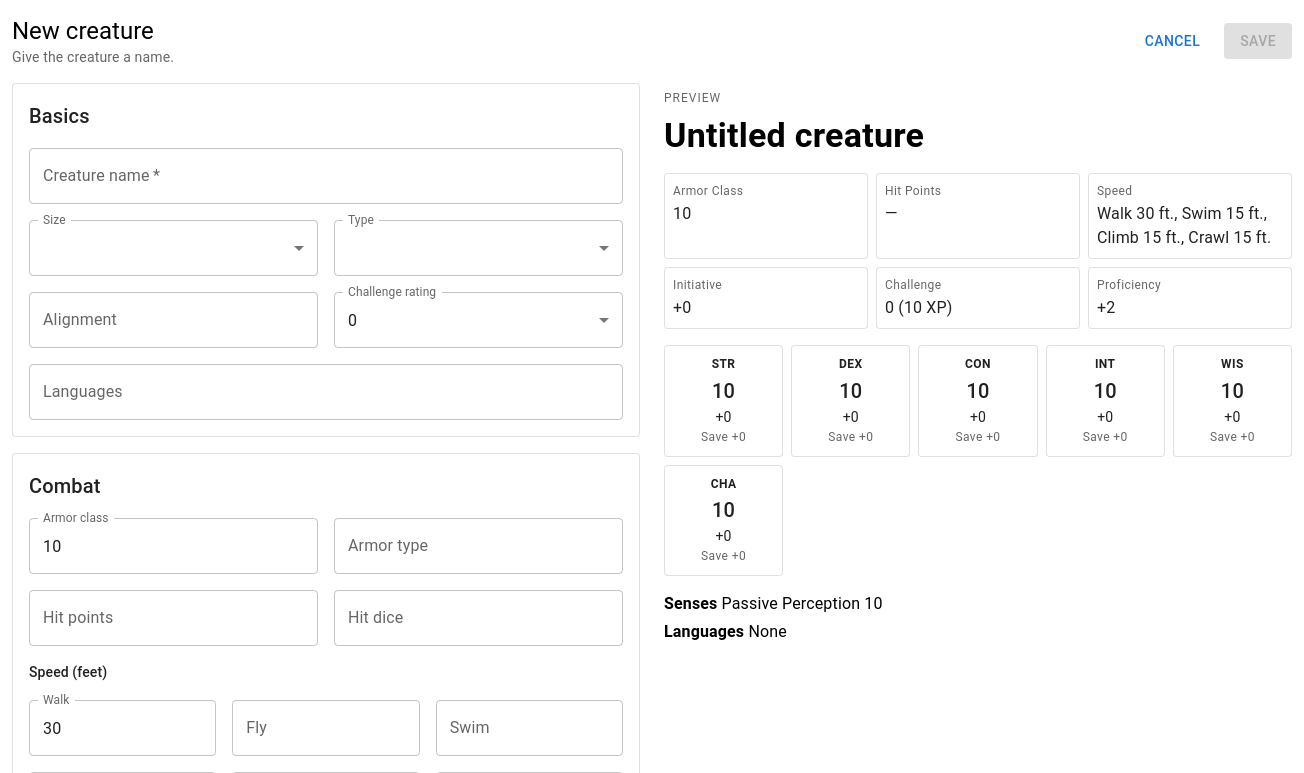
CreatureEditor › traits and actions › adds a trait and shows it in the preview
In the field labelled "Creature name *": (326, 176) [29,148,623,204], type "Gribble"
(page scrolled)
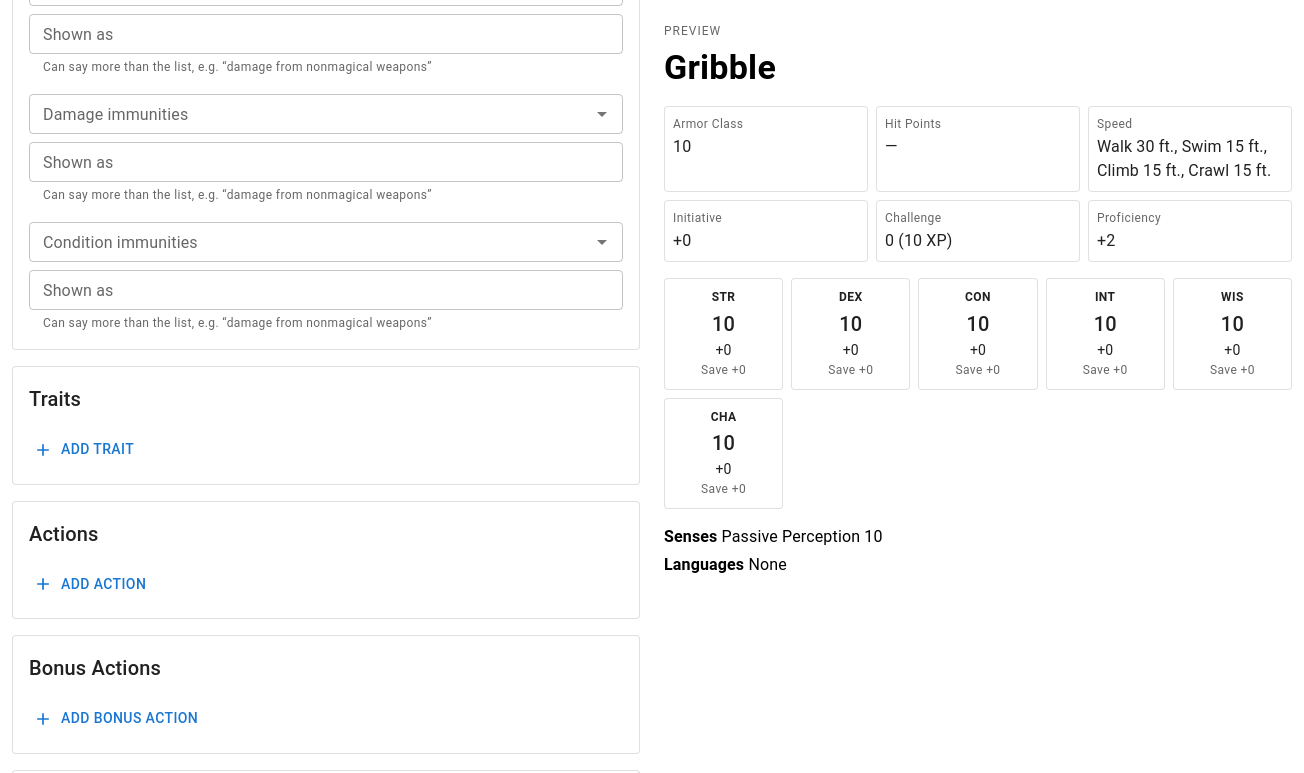
Click the button "Add trait": (86, 450) [29,432,142,468]
(page scrolled)
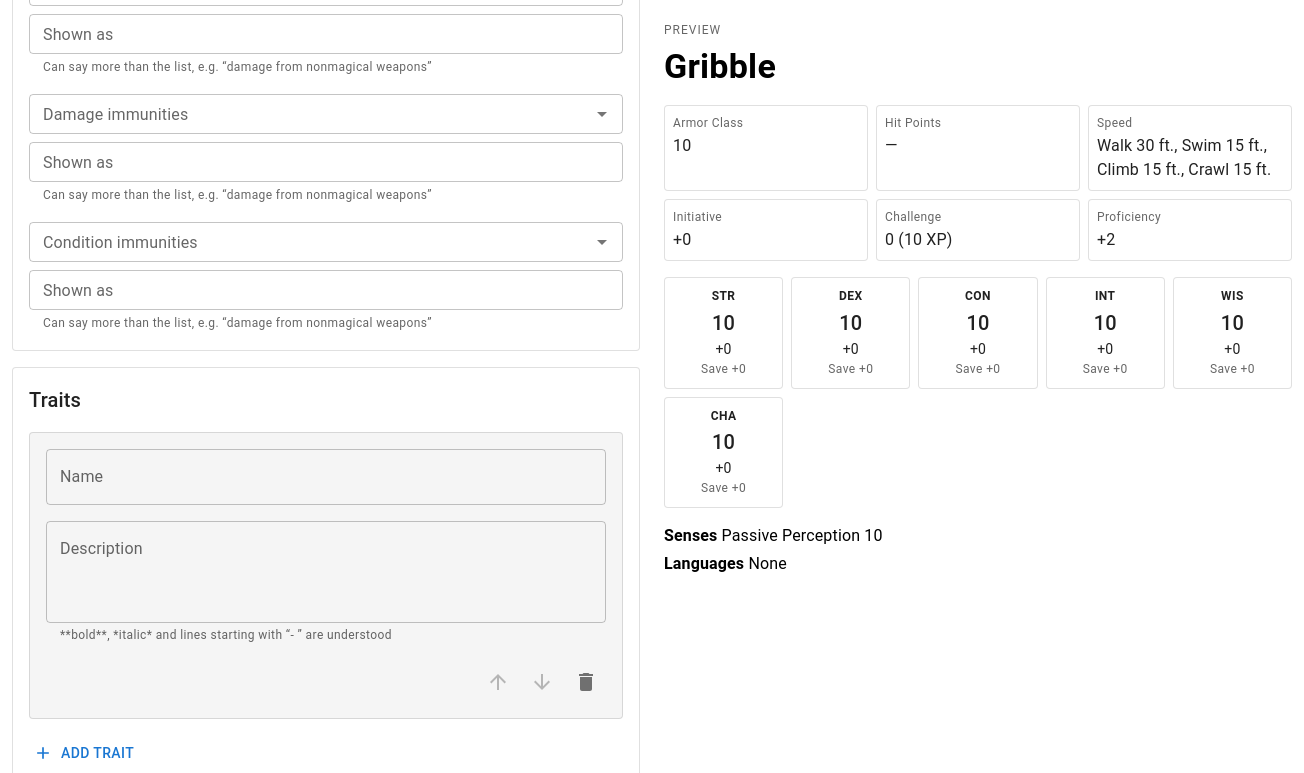
In the field labelled "Name": (326, 477) [46,449,606,505], type "Keen Smell"
(page scrolled)
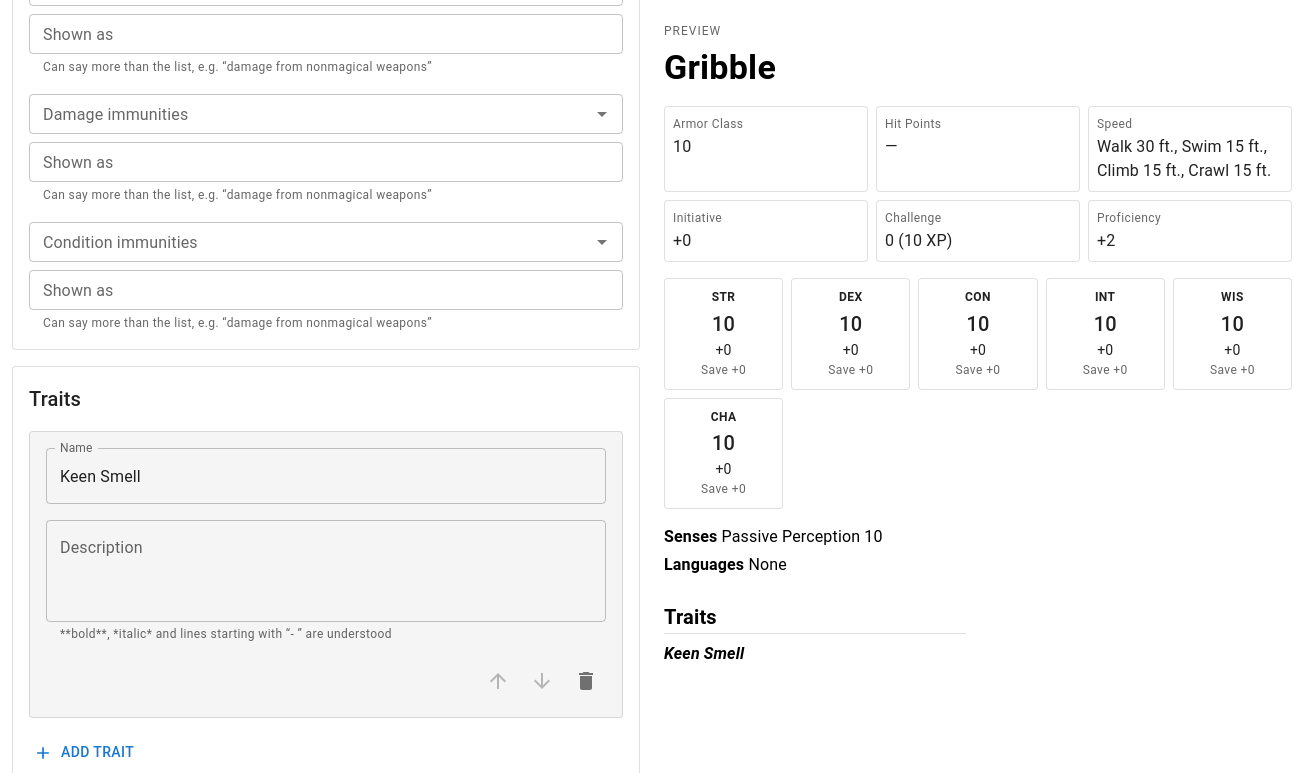
In the text box labelled "Description": (326, 572) [60,537,592,606], type "Advantage on smell checks."
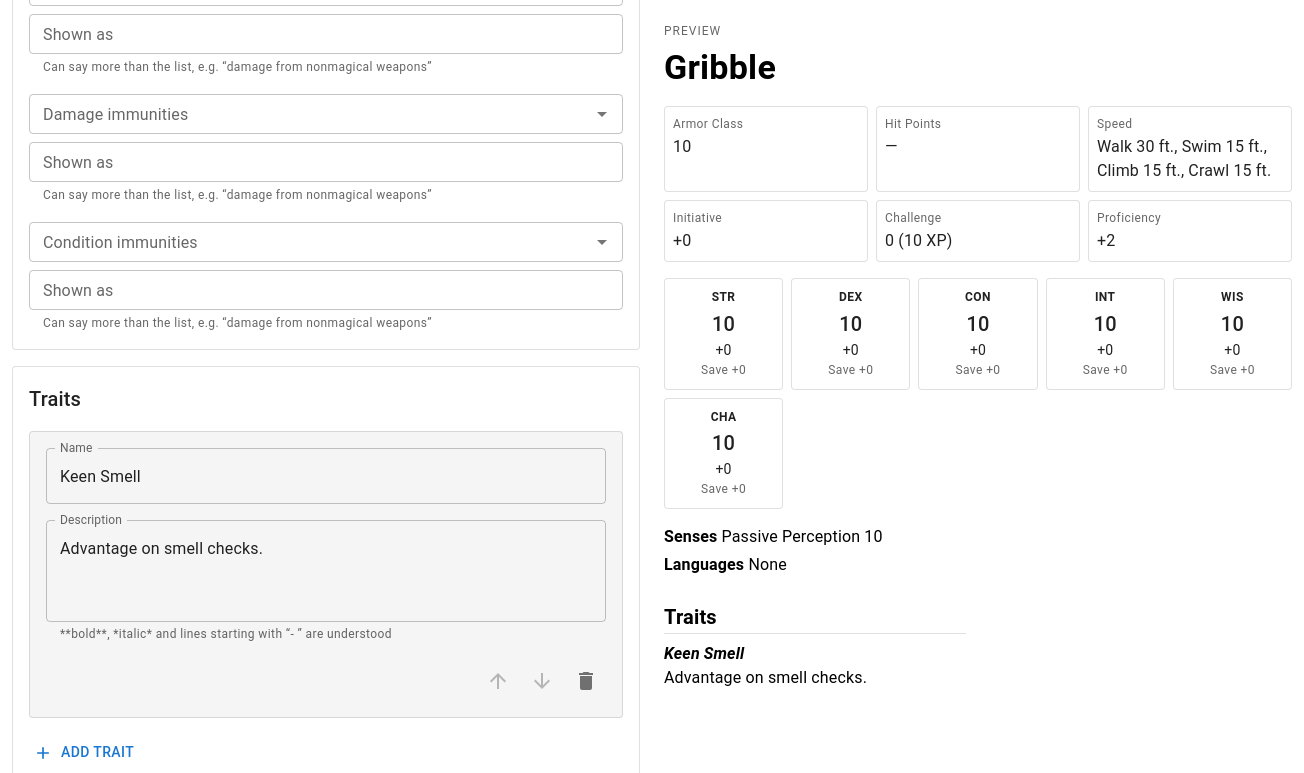
Now the text "Keen Smell" is shown, box [664,643,744,662]
Now the text "Advantage on smell checks." is shown, box [664,667,867,686]
